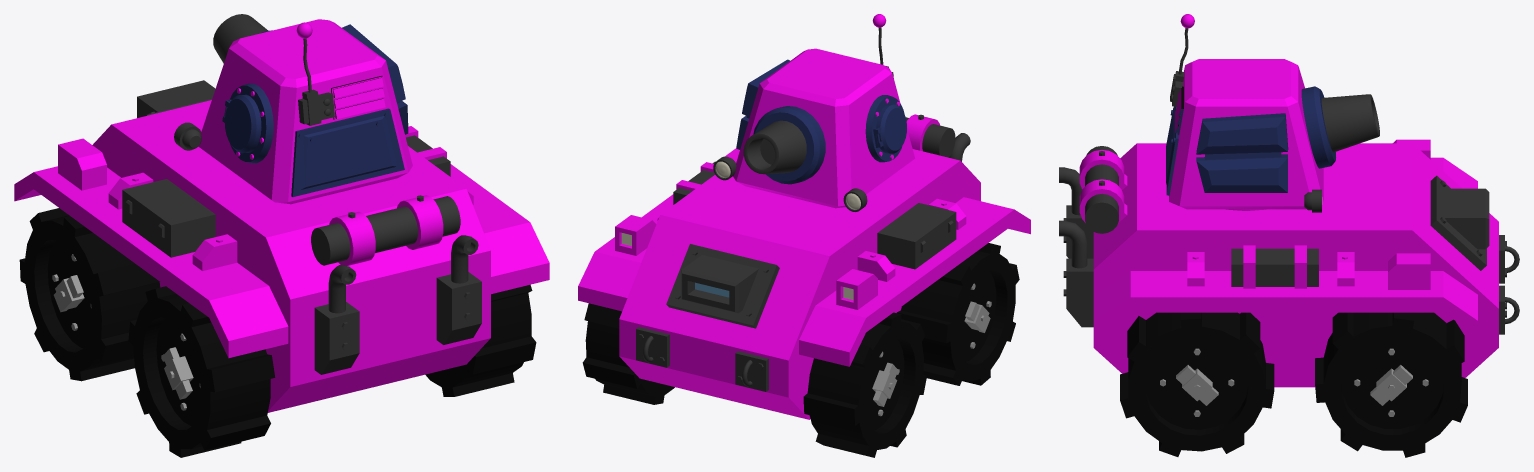
File: Tank_5.fbx
3 renders of one model, left to right at view 1: azimuth 30°, elevation 25°; view 2: azimuth 150°, elevation 25°; view 3: azimuth 270°, elevation 25°, orthographic. The views are drawn at different scales.
Parts seen in each view (by area): view 1: Tank_E_Body, Tank_E_Turret, Tank_E_Wheel_R_L, Tank_E_Wheel_F_L, Tank_E_Wheel_R_R; view 2: Tank_E_Body, Tank_E_Turret, Tank_E_Wheel_F_L, Tank_E_Wheel_R_L, Tank_E_Wheel_F_R; view 3: Tank_E_Body, Tank_E_Turret, Tank_E_Wheel_R_R, Tank_E_Wheel_F_R.
Part boxes in pixels (x1,y1,x2,y2): Tank_E_Body: (14,80,549,412); Tank_E_Turret: (174,14,412,204); Tank_E_Wheel_R_L: (128,286,275,457); Tank_E_Wheel_F_L: (19,208,160,381); Tank_E_Wheel_R_R: (425,284,536,396); Tank_E_Body: (578,114,1030,419); Tank_E_Turret: (713,14,914,211); Tank_E_Wheel_F_L: (803,312,926,457); Tank_E_Wheel_R_L: (897,243,1019,385); Tank_E_Wheel_F_R: (582,303,674,404); Tank_E_Body: (1059,139,1519,387); Tank_E_Turret: (1166,14,1379,212); Tank_E_Wheel_R_R: (1120,312,1274,456); Tank_E_Wheel_F_R: (1315,312,1467,457).
Bounding box in the file's own units: 74.12 × 87.91 × 102.
